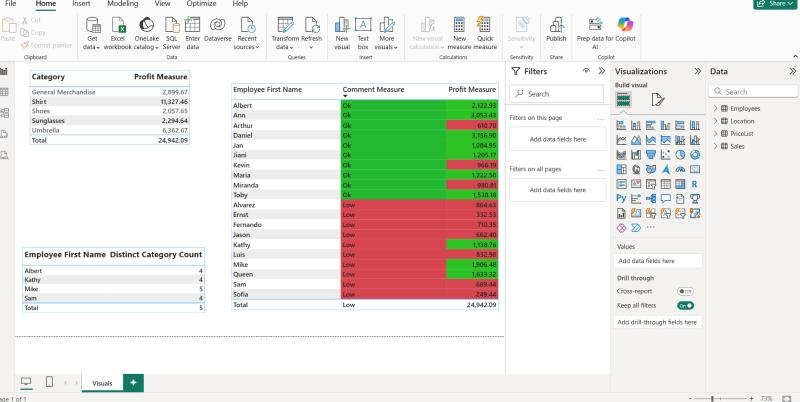

The dashboard page shown, as its layout file describes it:
{"tool":"powerbi","page":{"name":"Visuals","canvas":[1280,720],"ordinal":0},"visuals":[{"type":"tableEx","fields":{"Values":["Sales.Category","Sales.Profit_Measure"]},"box":[32.9,19.2,432.2,220.9],"z":0},{"type":"tableEx","fields":{"Values":["Employees.Employee First Name","PriceList.Distinct Category Count"]},"box":[13.7,483,495.4,237.4],"z":1000},{"type":"tableEx","fields":{"Values":["Employees.Employee First Name","Sales.Comment_Measure","Sales.Profit_Measure"]},"box":[558.5,53.5,721.8,623],"z":2000}]}

Visuals, with their boxes on the page's 1280x720 design canvas (x1, y1, x2, y2). These are canvas units, not pixel positions in the 800x402 screenshot, which may show the page scaled, cropped or inside an application window:
tableEx - Sales.Category x Sales.Profit_Measure: (33,19,465,240)
tableEx - Employees.Employee First Name x PriceList.Distinct Category Count: (14,483,509,720)
tableEx - Employees.Employee First Name x Sales.Comment_Measure: (558,54,1280,676)
